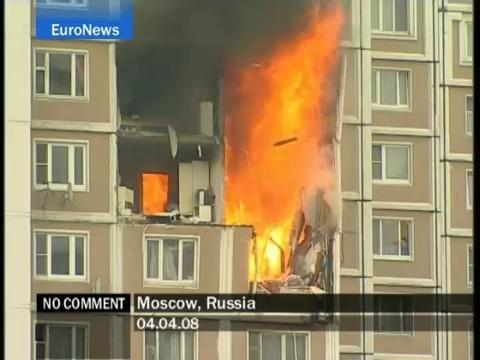fire: (225, 57, 333, 275), (314, 0, 349, 75), (144, 173, 170, 216)
